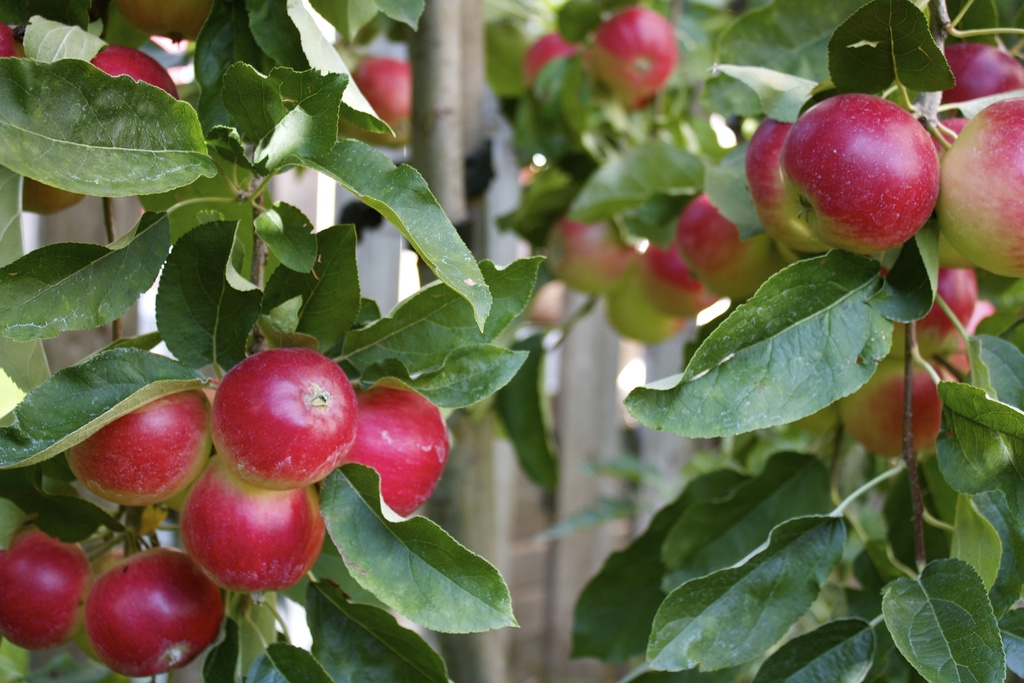Apple: (540, 40, 1023, 459), (0, 346, 448, 682), (779, 90, 942, 255), (220, 342, 352, 484), (590, 8, 675, 107), (343, 56, 410, 149), (92, 44, 177, 99), (519, 28, 584, 90), (111, 0, 215, 36), (15, 176, 85, 213), (0, 18, 24, 57)
